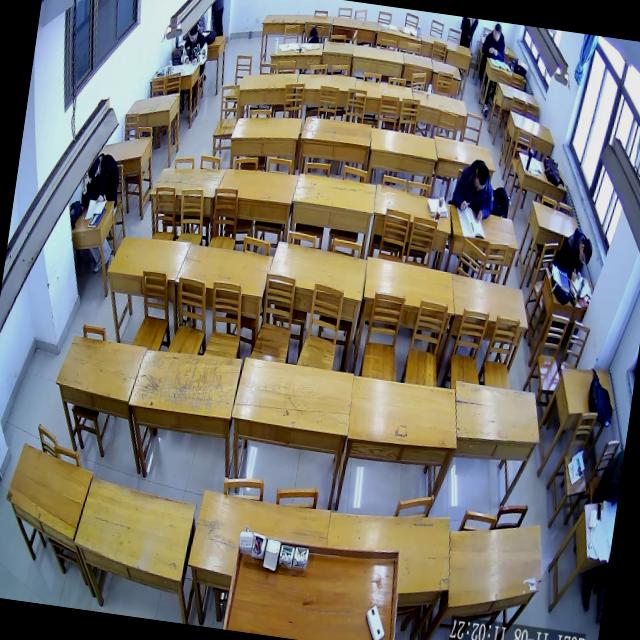down: (470, 161, 490, 195), (576, 237, 595, 270), (85, 152, 103, 182), (187, 21, 200, 44)
sit: (448, 154, 500, 227), (79, 147, 125, 214), (552, 223, 596, 284), (179, 21, 212, 69), (479, 20, 510, 61)
